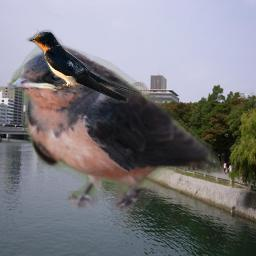Swallow: (7, 45, 225, 212), (26, 28, 143, 103)
